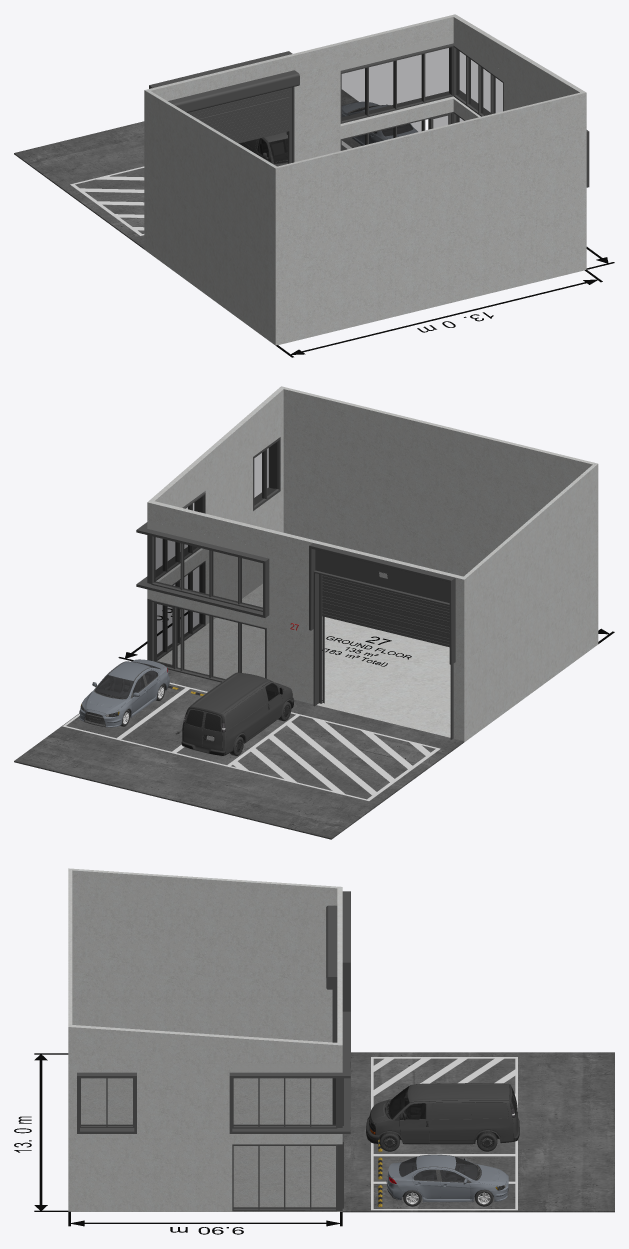
The model's file is Without_Mezzanine.glb.
3 views of the same model, one above another, from view 1: azimuth 30°, elevation 25°; view 2: azimuth 150°, elevation 25°; view 3: azimuth 270°, elevation 25° (orthographic). The views are drawn at different scales.
Parts seen in each view (by area): view 1: Object1746169868.002, Object1746169869.002, Shape113.002, Box2131637733.002, Box2131647078.003, Segment 004.002, Rectangle2140.002, Object1746169150.002, Rectangle2139.002, Layer:023.003, AM132_020_06.002, AM132_031_Collapsed.002 (+3 smaller); view 2: Object1746169868.002, Box2131647078.003, Object1746169869.002, Shape113.002, Shape114.002, Box2131637733.002, AM132_020_06.002, Segment 004.002, AM132_031_Collapsed.002, Layer:023.003, Component#120 [25525]110.002, Component#121 [25528]110.002 (+5 smaller); view 3: Object1746169869.002, Shape113.002, Box2131647078.003, Shape114.002, AM132_020_06.002, Box2131637733.002, Object1746169871.002, AM132_031_Collapsed.002, Rectangle2141.002, Layer:023.003, Rectangle2140.002, Component#121 [25528]110.002 (+5 smaller).
Part boxes in pixels (left/top/right/bottom): Object1746169868.002: left=273, top=92, right=582, bottom=345; Object1746169869.002: left=147, top=91, right=276, bottom=340; Shape113.002: left=144, top=14, right=586, bottom=270; Box2131637733.002: left=340, top=43, right=503, bottom=150; Box2131647078.003: left=14, top=89, right=361, bottom=249; Segment 004.002: left=188, top=88, right=289, bottom=143; Rectangle2140.002: left=340, top=96, right=480, bottom=138; Object1746169150.002: left=168, top=70, right=299, bottom=112; Rectangle2139.002: left=340, top=35, right=503, bottom=79; Layer:023.003: left=70, top=166, right=144, bottom=235; AM132_020_06.002: left=239, top=132, right=287, bottom=166; AM132_031_Collapsed.002: left=341, top=101, right=417, bottom=145; Object1746169868.002: left=283, top=387, right=598, bottom=645; Box2131647078.003: left=14, top=669, right=464, bottom=839; Object1746169869.002: left=464, top=464, right=596, bottom=736; Shape113.002: left=147, top=386, right=466, bottom=741; Shape114.002: left=158, top=584, right=450, bottom=737; Box2131637733.002: left=136, top=492, right=269, bottom=682; AM132_020_06.002: left=181, top=672, right=293, bottom=755; Segment 004.002: left=322, top=575, right=449, bottom=647; AM132_031_Collapsed.002: left=79, top=659, right=169, bottom=727; Layer:023.003: left=226, top=713, right=440, bottom=801; Component#120 [25525]110.002: left=315, top=549, right=449, bottom=602; Component#121 [25528]110.002: left=309, top=543, right=455, bottom=664; Object1746169869.002: left=72, top=868, right=337, bottom=1042; Shape113.002: left=68, top=886, right=342, bottom=1211; Box2131647078.003: left=342, top=1052, right=614, bottom=1212; Shape114.002: left=81, top=1078, right=342, bottom=1211; AM132_020_06.002: left=365, top=1083, right=519, bottom=1151; Box2131637733.002: left=229, top=1011, right=350, bottom=1208; Object1746169871.002: left=232, top=1144, right=337, bottom=1211; AM132_031_Collapsed.002: left=386, top=1154, right=508, bottom=1206; Rectangle2141.002: left=77, top=1072, right=136, bottom=1133; Layer:023.003: left=371, top=1057, right=517, bottom=1111; Rectangle2140.002: left=232, top=1134, right=342, bottom=1144; Component#121 [25528]110.002: left=342, top=891, right=350, bottom=1011.
Bounding box in the file's own units: 15.73 × 7.5 × 22.07.
59 materials, 11 textured.
